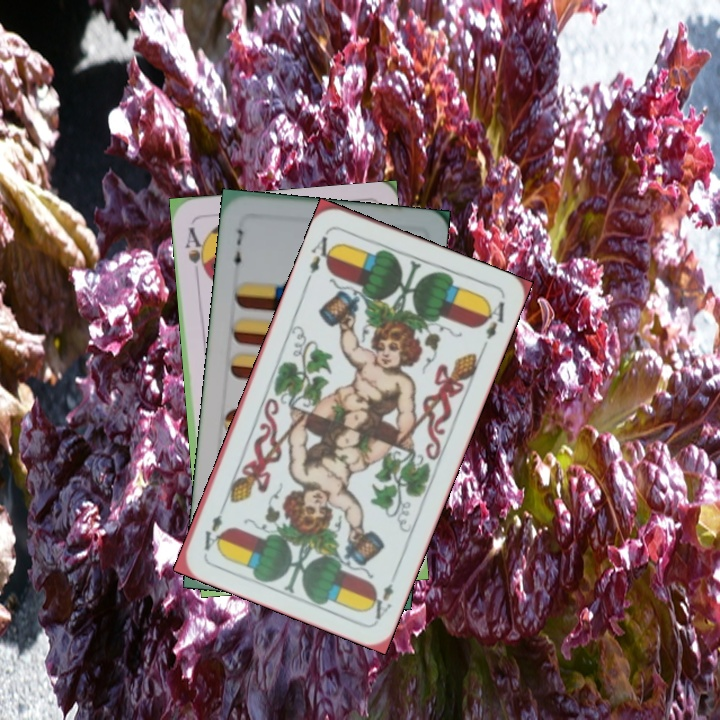E7: (229, 225, 246, 274)
EA: (365, 566, 400, 623), (305, 227, 339, 277)
SA: (181, 222, 209, 280)
